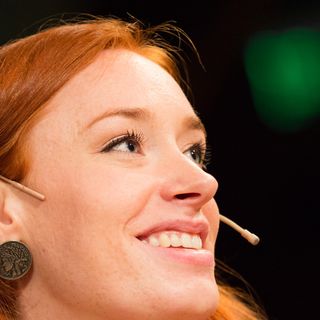eye: (96, 133, 150, 157), (178, 141, 209, 164)
